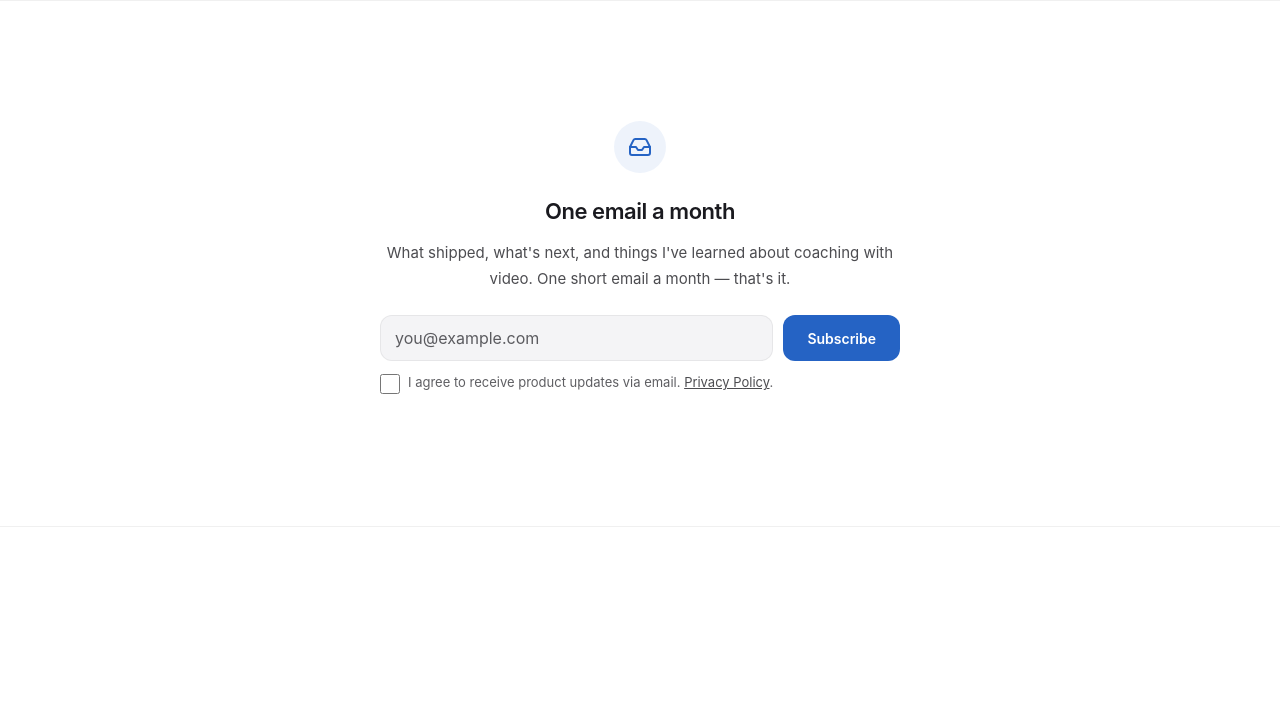
Test: <Newsletter /> error handling › keeps the error visible after a failed submit (no auto-clear)
Type "user@example.com" into the field named "email address" at (577, 338), box x1=380 y1=315 x2=773 y2=361
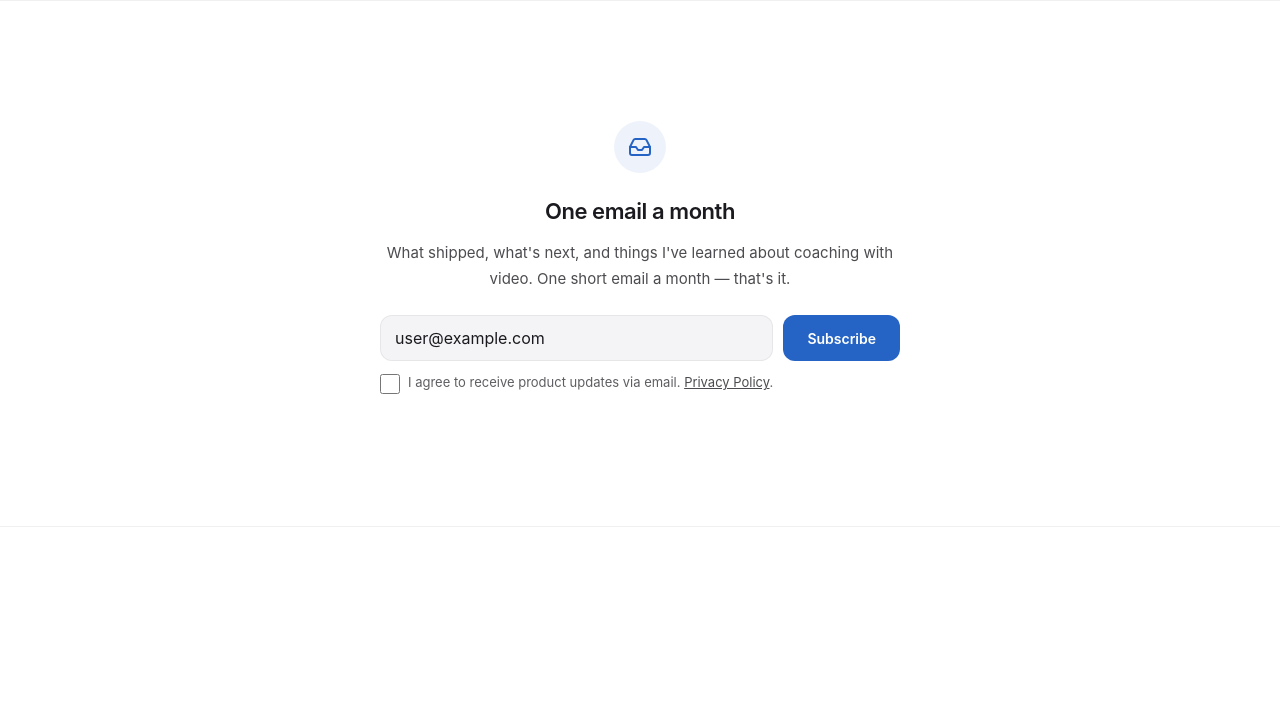
Click the checkbox at (390, 384), box x1=380 y1=374 x2=400 y2=394
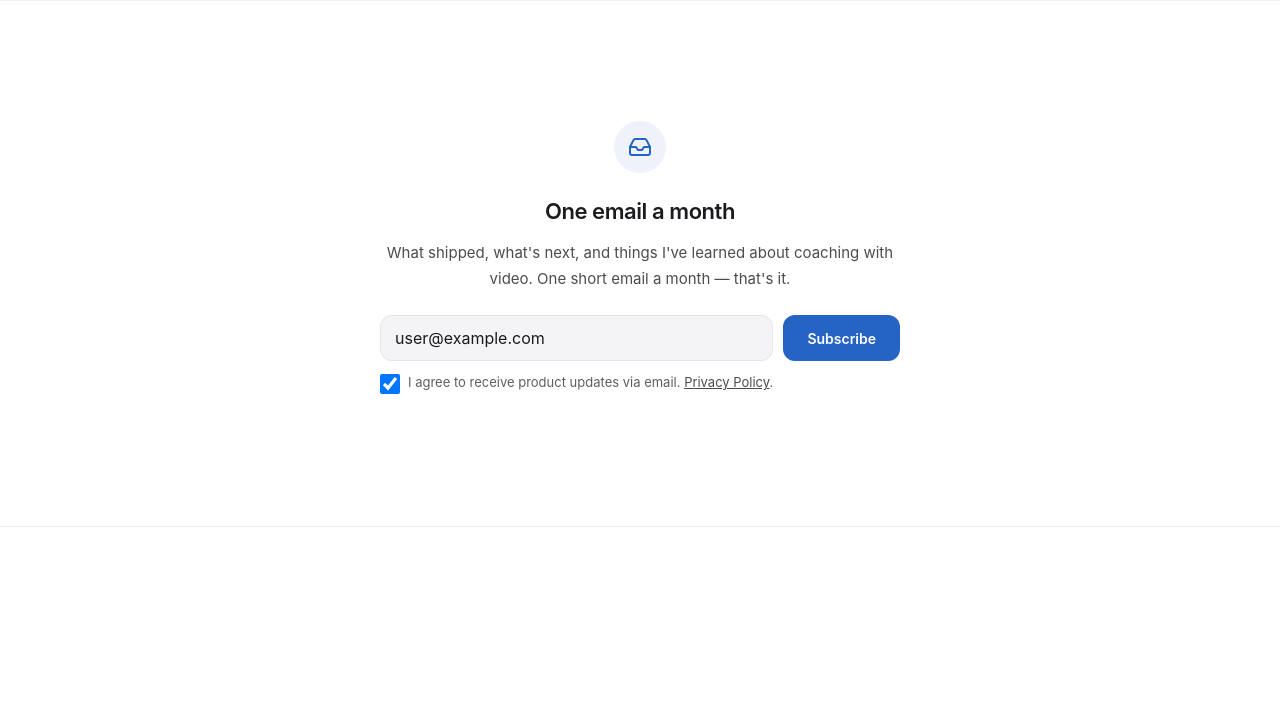
Submit the form named "email address", box x1=380 y1=315 x2=900 y2=394
Wait 10000 ms
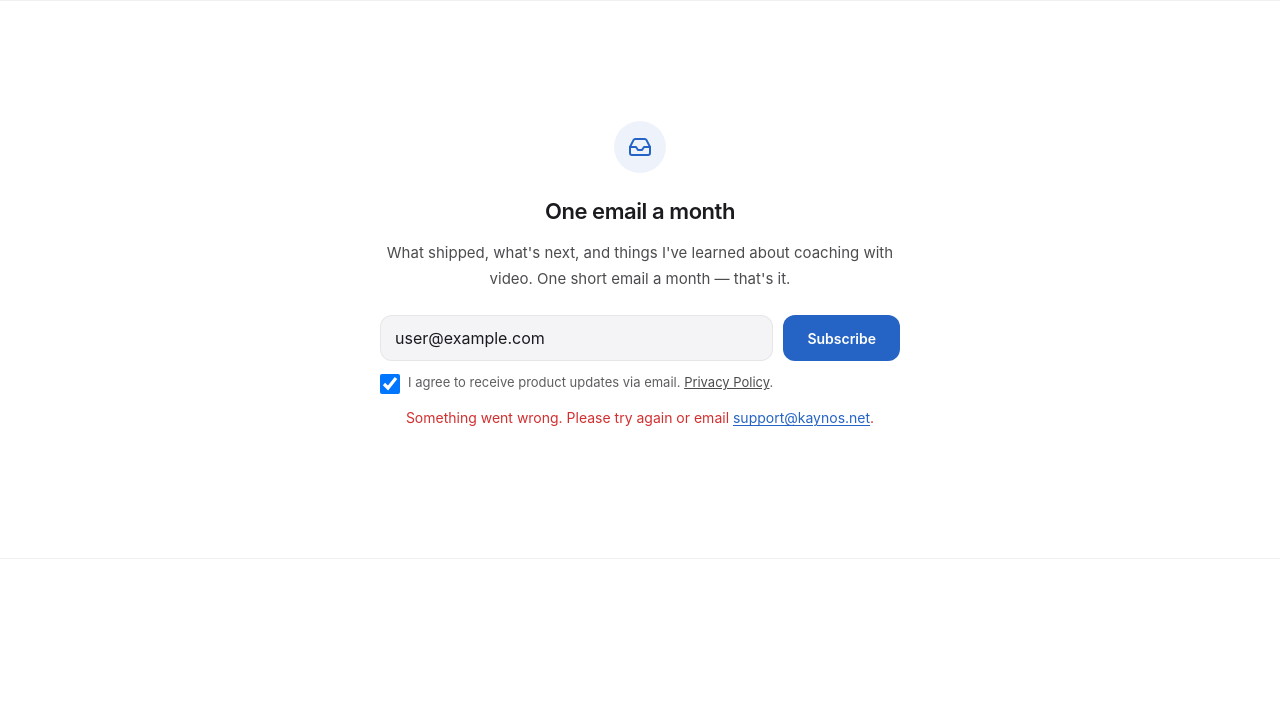
Expected: the text "Something went wrong. Please try again or email support@kaynos.net ." is shown, x1=380 y1=406 x2=900 y2=430
